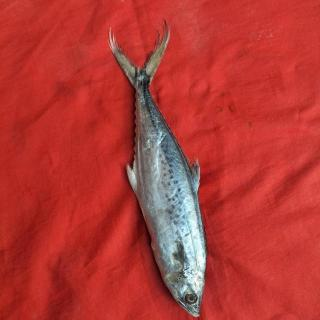Ikan: (89, 23, 225, 320)
